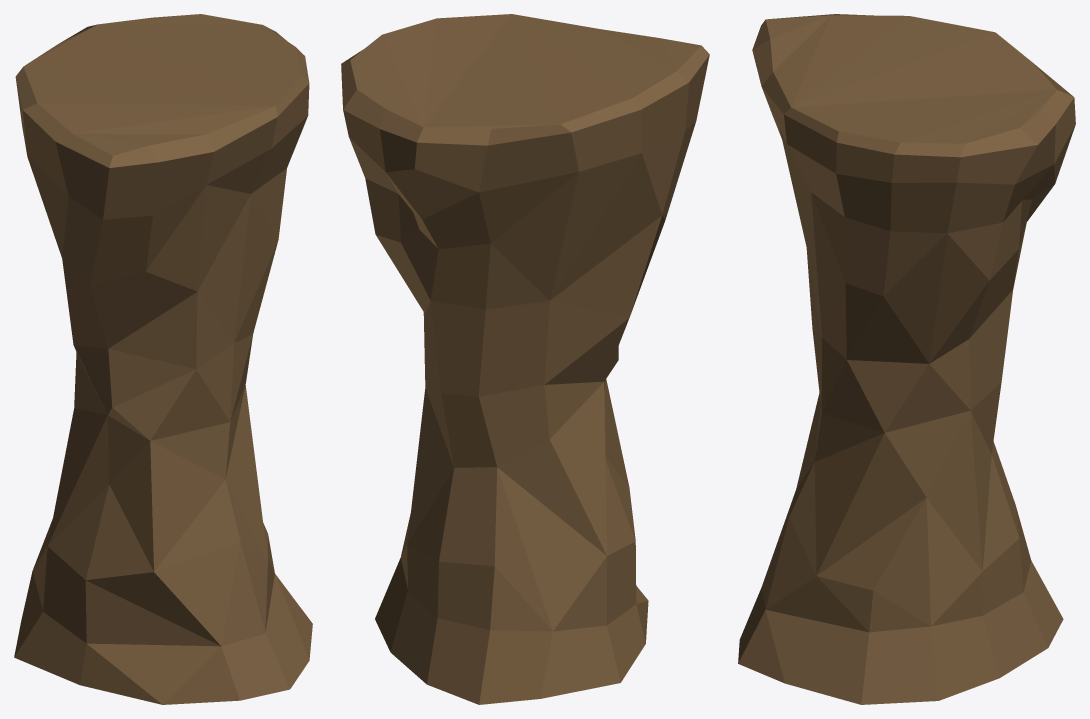
File: Pillar-A03.fbx
The picture shows the model from 3 angles, left to right: view 1: azimuth 30°, elevation 25°; view 2: azimuth 150°, elevation 25°; view 3: azimuth 270°, elevation 25°; orthographic projection.
Parts seen in each view (by area): view 1: Pillar-A03; view 2: Pillar-A03; view 3: Pillar-A03.
Part boxes in pixels (x1,y1,x2,y2): Pillar-A03: (14,14,312,704); Pillar-A03: (341,14,709,704); Pillar-A03: (738,14,1075,704).
Size of the model in its own units: 208 by 214 by 397.
